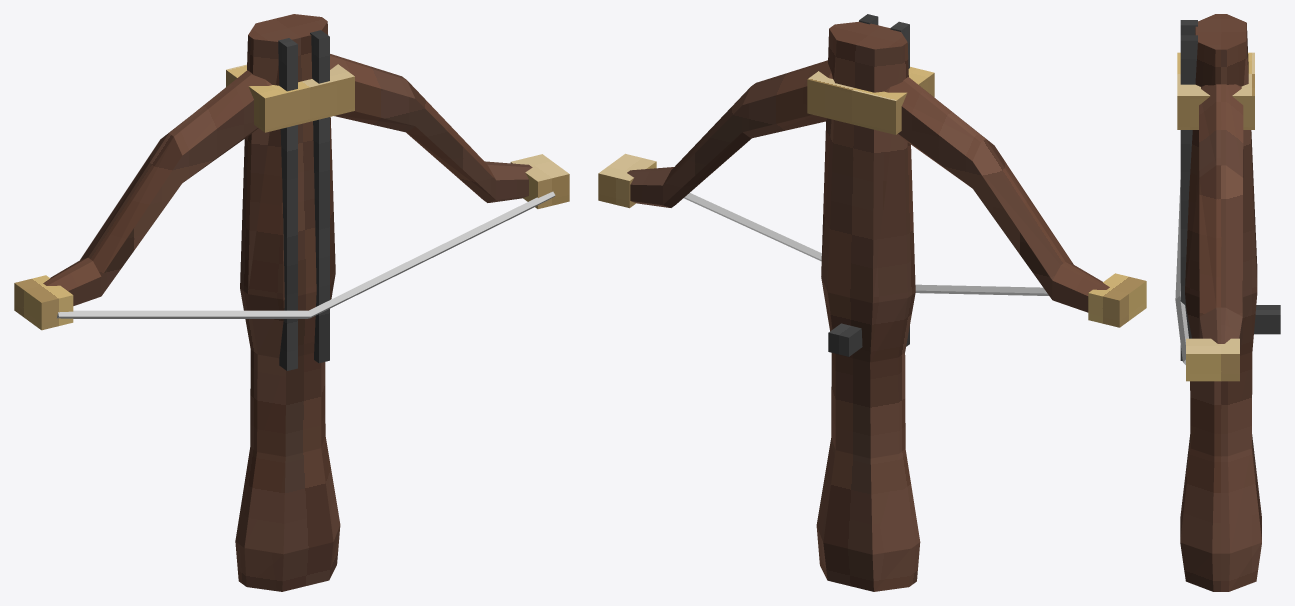
The model's file is cutout.obj.
3 renders of one model, left to right at view 1: azimuth 30°, elevation 25°; view 2: azimuth 150°, elevation 25°; view 3: azimuth 270°, elevation 25°, orthographic.
Bounding box in the file's own units: 1.2 × 1.19 × 0.2102.
